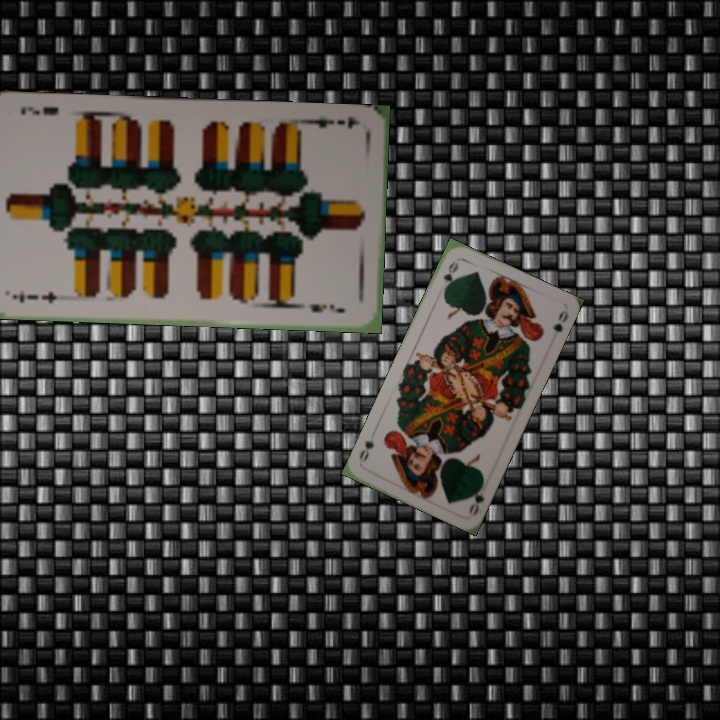E7: (8, 286, 60, 307), (304, 113, 363, 131)
GO: (465, 476, 491, 518), (440, 257, 461, 296)
